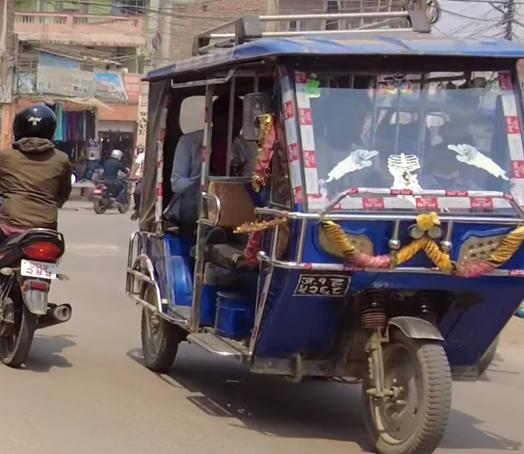bike: (0, 221, 76, 374)
e-rickshaw: (113, 21, 524, 454)
